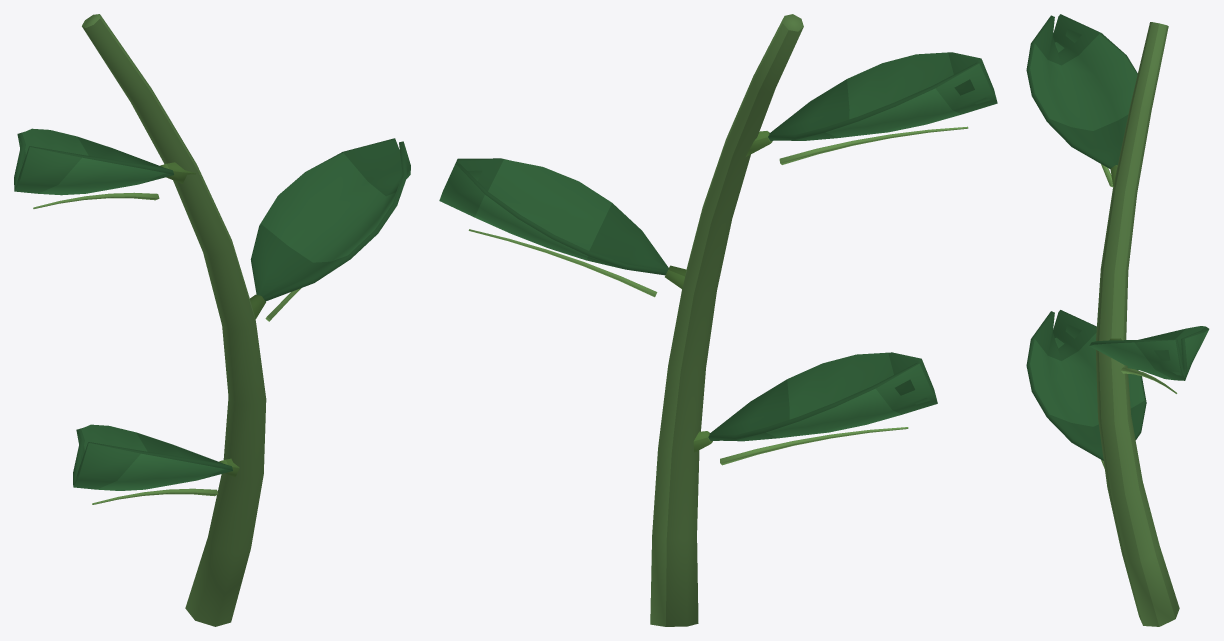
Rendered from garden-geranium-bud-stem-0.glb.
3 views of the same model, side by side, from view 1: azimuth 30°, elevation 25°; view 2: azimuth 150°, elevation 25°; view 3: azimuth 270°, elevation 25° (orthographic). The views are drawn at different scales.
Visible parts, largest first — view 1: geranium-bud-stem-0; view 2: geranium-bud-stem-0; view 3: geranium-bud-stem-0.
Part boxes in pixels (x1,y1,x2,y2): geranium-bud-stem-0: (14, 14, 410, 626); geranium-bud-stem-0: (439, 14, 997, 626); geranium-bud-stem-0: (1026, 14, 1209, 626).
Size of the model in its own units: 0.1556 by 0.1983 by 0.0597.
